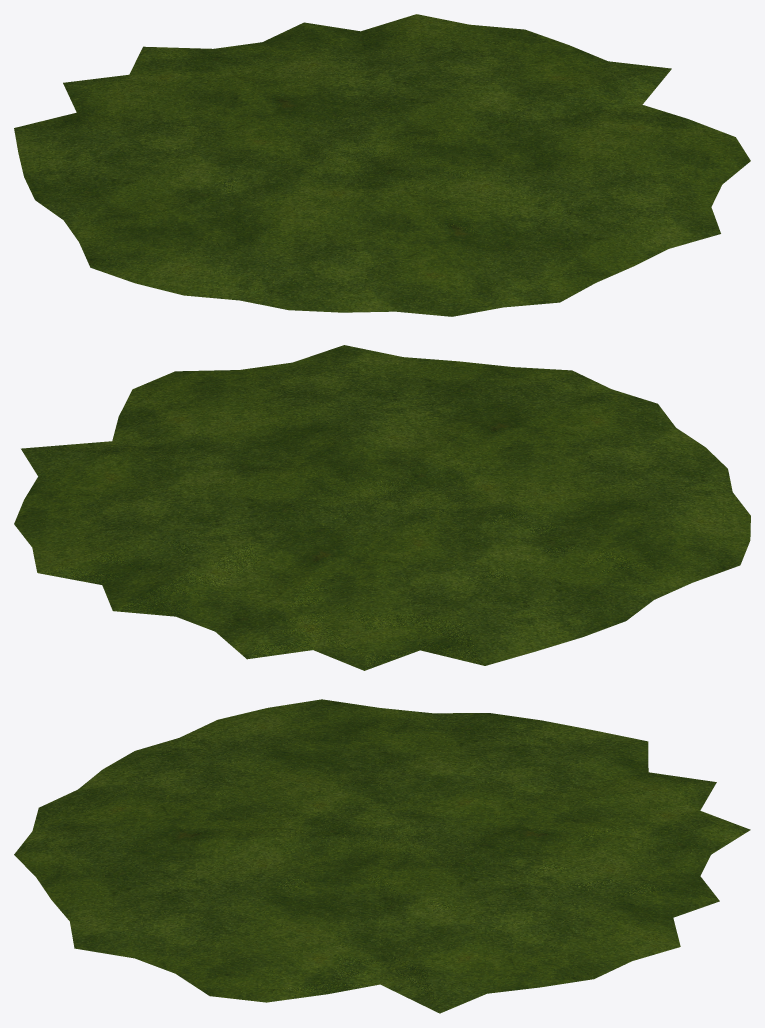
File: ground_moss_carpet_v01.glb
The picture shows the model from 3 angles, top to bottom: view 1: azimuth 30°, elevation 25°; view 2: azimuth 150°, elevation 25°; view 3: azimuth 270°, elevation 25°; orthographic projection. The views are drawn at different scales.
Visible parts, largest first — view 1: ground_moss_carpet_v01; view 2: ground_moss_carpet_v01; view 3: ground_moss_carpet_v01.
Boxes of the visible parts, x1,y1,x2,y2 form: ground_moss_carpet_v01: (14, 14, 750, 316); ground_moss_carpet_v01: (14, 345, 750, 670); ground_moss_carpet_v01: (14, 699, 750, 1013).
Bounding box in the file's own units: 1.07 × 0.029 × 1.06.
Materials: 1 (1 with a texture image).
